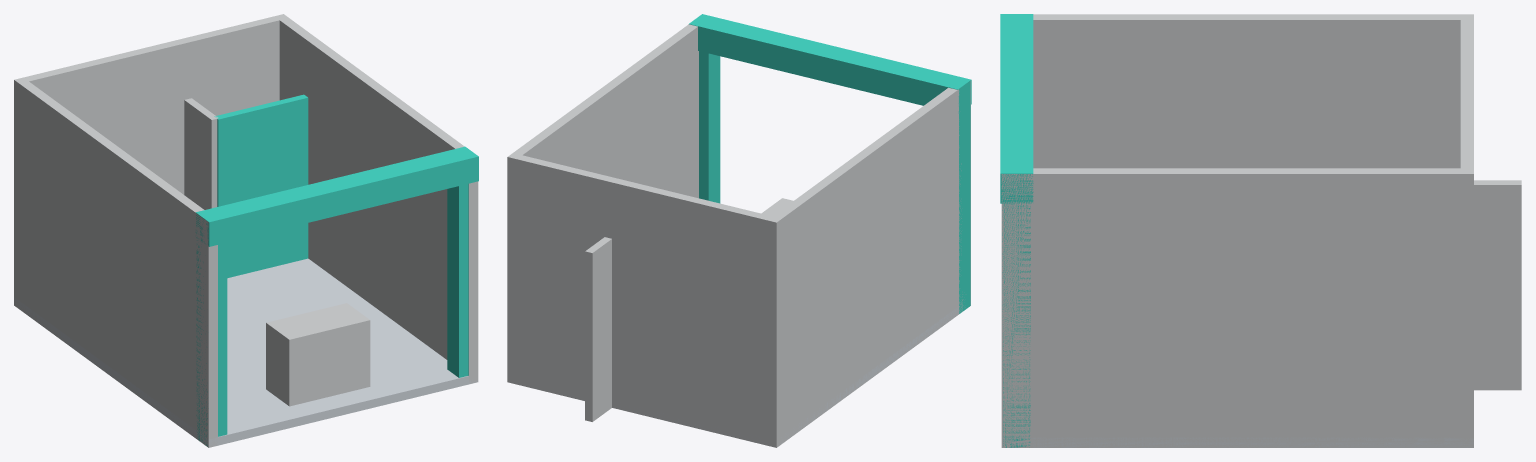
The picture shows the model from 3 angles, left to right: view 1: azimuth 30°, elevation 25°; view 2: azimuth 150°, elevation 25°; view 3: azimuth 270°, elevation 25°; orthographic projection. The views are drawn at different scales.
Parts seen in each view (by area): view 1: Exhibition Booth Concept; view 2: Exhibition Booth Concept; view 3: Exhibition Booth Concept.
Part boxes in pixels (x1,y1,x2,y2): Exhibition Booth Concept: (14,14,478,447); Exhibition Booth Concept: (507,14,971,447); Exhibition Booth Concept: (1000,14,1521,447).
Size of the model in its own units: 4 by 3.2 by 5.52.
